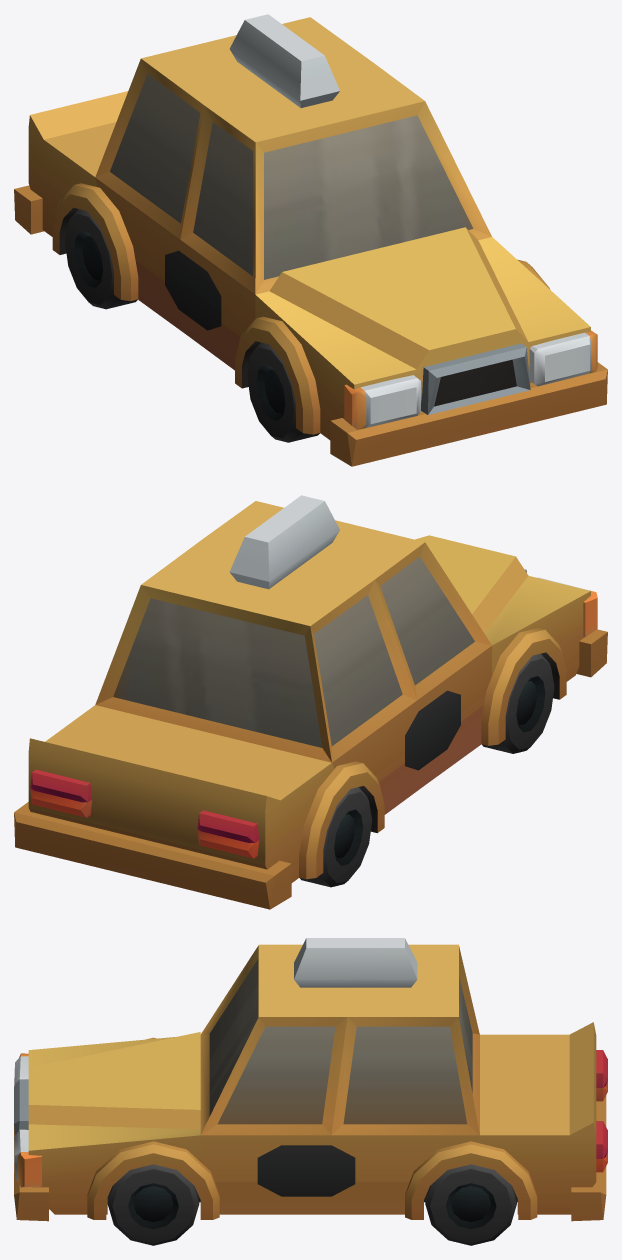
File: kay-taxi.gltf
3 views of the same model, one above another, from view 1: azimuth 30°, elevation 25°; view 2: azimuth 150°, elevation 25°; view 3: azimuth 270°, elevation 25° (orthographic). The views are drawn at different scales.
Visible parts, largest first — view 1: car_taxi; view 2: car_taxi; view 3: car_taxi.
Part boxes in pixels (x1=…): car_taxi: x1=14, y1=14, x2=607, y2=466; car_taxi: x1=14, y1=495, x2=607, y2=909; car_taxi: x1=14, y1=938, x2=607, y2=1245.
Bounding box in the file's own units: 2.09 × 2.17 × 4.69.
1 material, 1 textured.
